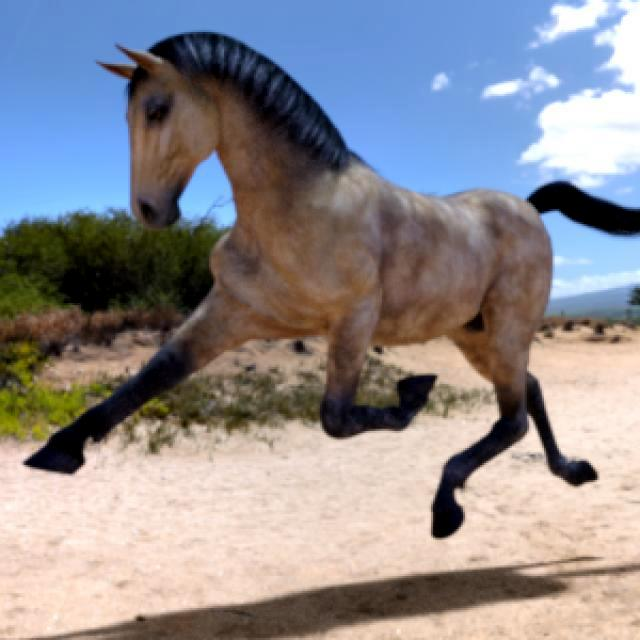horse: (25, 32, 640, 537)
